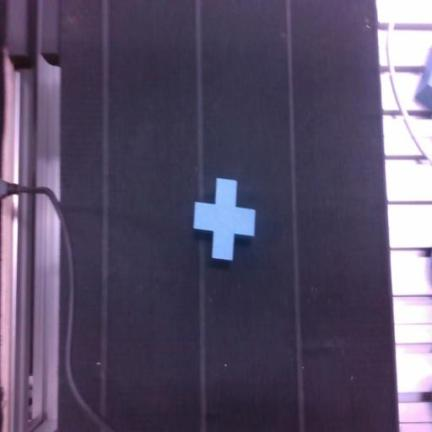cross: (194, 179, 255, 260)
